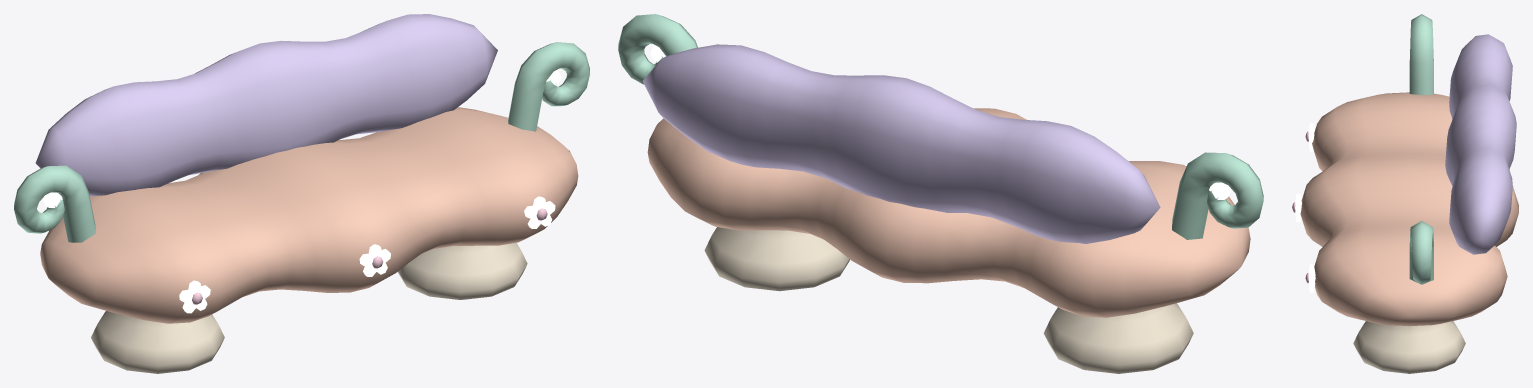
File: bench.fbx
3 views of the same model, side by side, from view 1: azimuth 30°, elevation 25°; view 2: azimuth 150°, elevation 25°; view 3: azimuth 270°, elevation 25° (orthographic). The views are drawn at different scales.
Visible parts, largest first — view 1: Bench_SeatPod, Bench_BackBolster, Bench_MushroomLegs, Bench_ArmCurls, Bench_FlowerButtons; view 2: Bench_BackBolster, Bench_SeatPod, Bench_MushroomLegs, Bench_ArmCurls; view 3: Bench_SeatPod, Bench_BackBolster, Bench_MushroomLegs, Bench_ArmCurls, Bench_FlowerButtons.
Part boxes in pixels (x1,y1,x2,y2): Bench_SeatPod: [40, 107, 578, 323]; Bench_BackBolster: [35, 14, 497, 196]; Bench_MushroomLegs: [91, 243, 527, 373]; Bench_ArmCurls: [14, 42, 589, 242]; Bench_FlowerButtons: [179, 196, 555, 313]; Bench_BackBolster: [642, 44, 1160, 243]; Bench_SeatPod: [647, 108, 1250, 317]; Bench_MushroomLegs: [704, 227, 1193, 373]; Bench_ArmCurls: [618, 14, 1263, 239]; Bench_SeatPod: [1300, 92, 1518, 326]; Bench_BackBolster: [1445, 34, 1516, 254]; Bench_MushroomLegs: [1353, 321, 1465, 373]; Bench_ArmCurls: [1409, 14, 1433, 284]; Bench_FlowerButtons: [1292, 123, 1315, 292].
Size of the model in its own units: 1.37 by 0.5376 by 0.5564.
